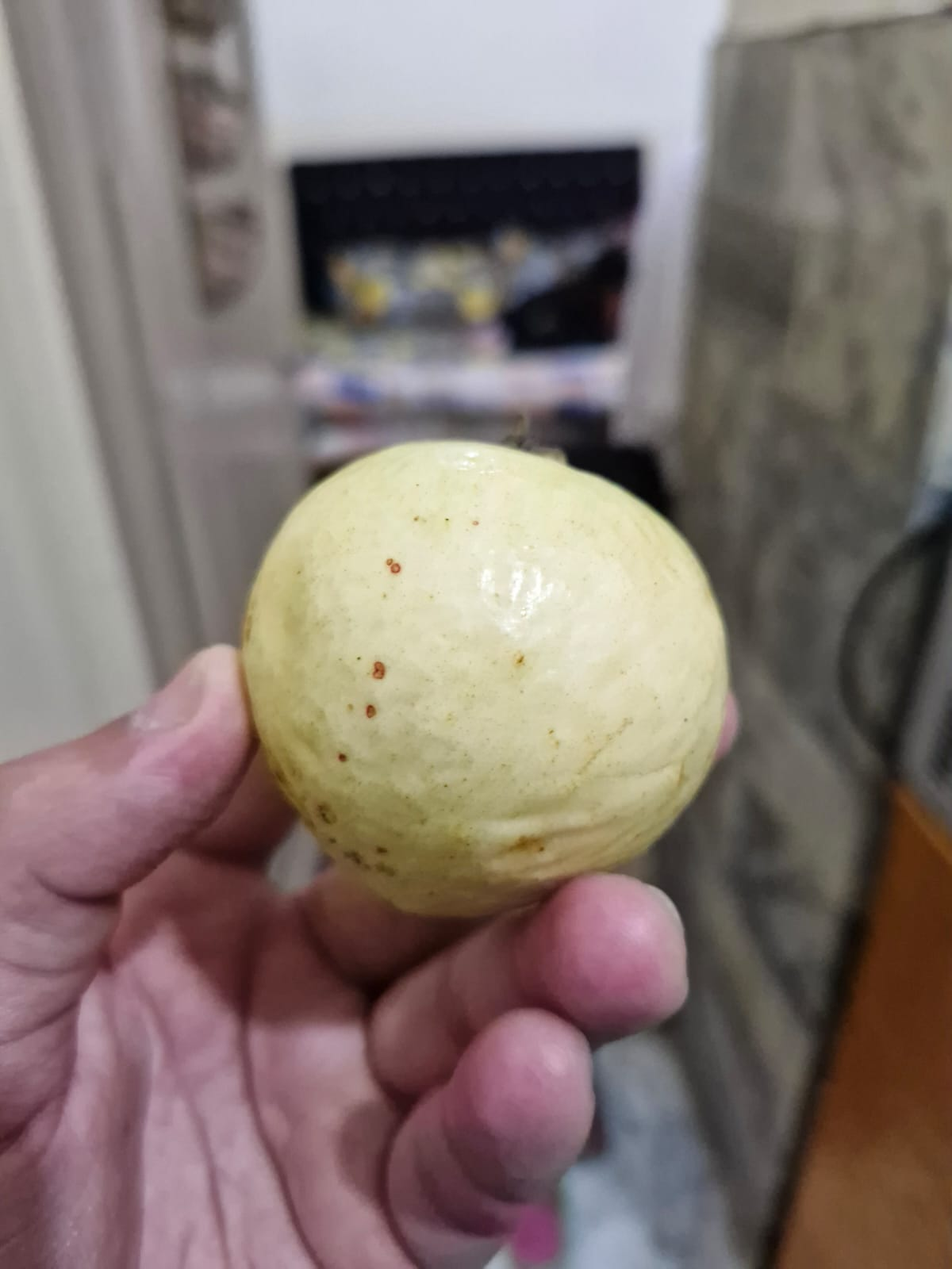guava: (182, 210, 774, 1004)
